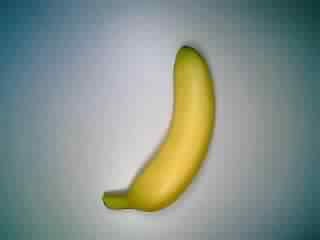banana: (99, 43, 221, 220)
